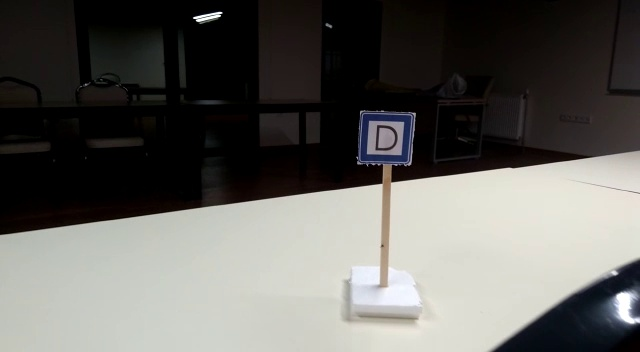durak: (358, 112, 414, 163)
